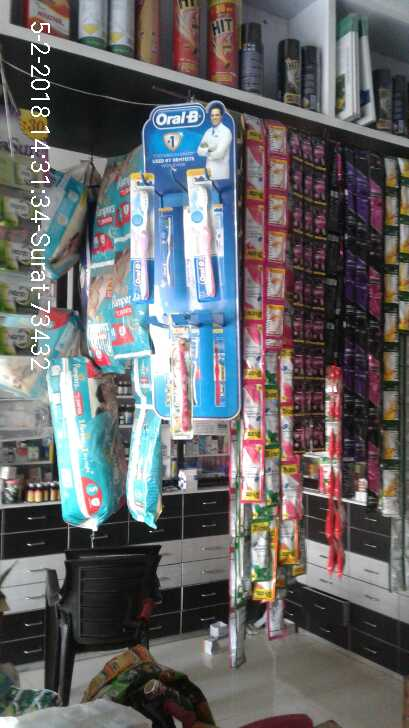oralb: (48, 357, 132, 532), (129, 404, 170, 532)
pharmacy: (187, 170, 221, 298), (171, 315, 196, 439), (131, 174, 155, 302)
